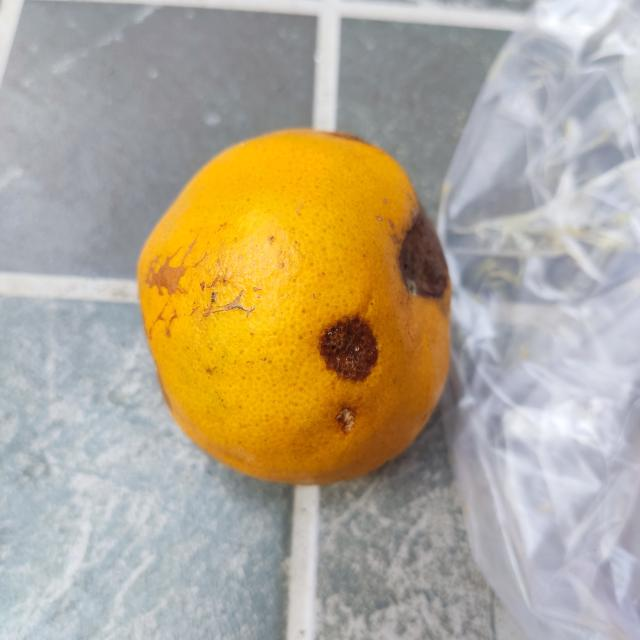orange: (129, 125, 457, 487)
